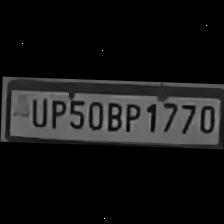0: (194, 100, 216, 132), (83, 96, 103, 130)
1: (140, 98, 160, 132)
5: (64, 94, 84, 129)
7: (158, 99, 176, 134), (176, 99, 194, 134)
B: (102, 97, 122, 131)
P: (121, 98, 141, 133), (44, 94, 64, 128)
U: (26, 94, 46, 127)
